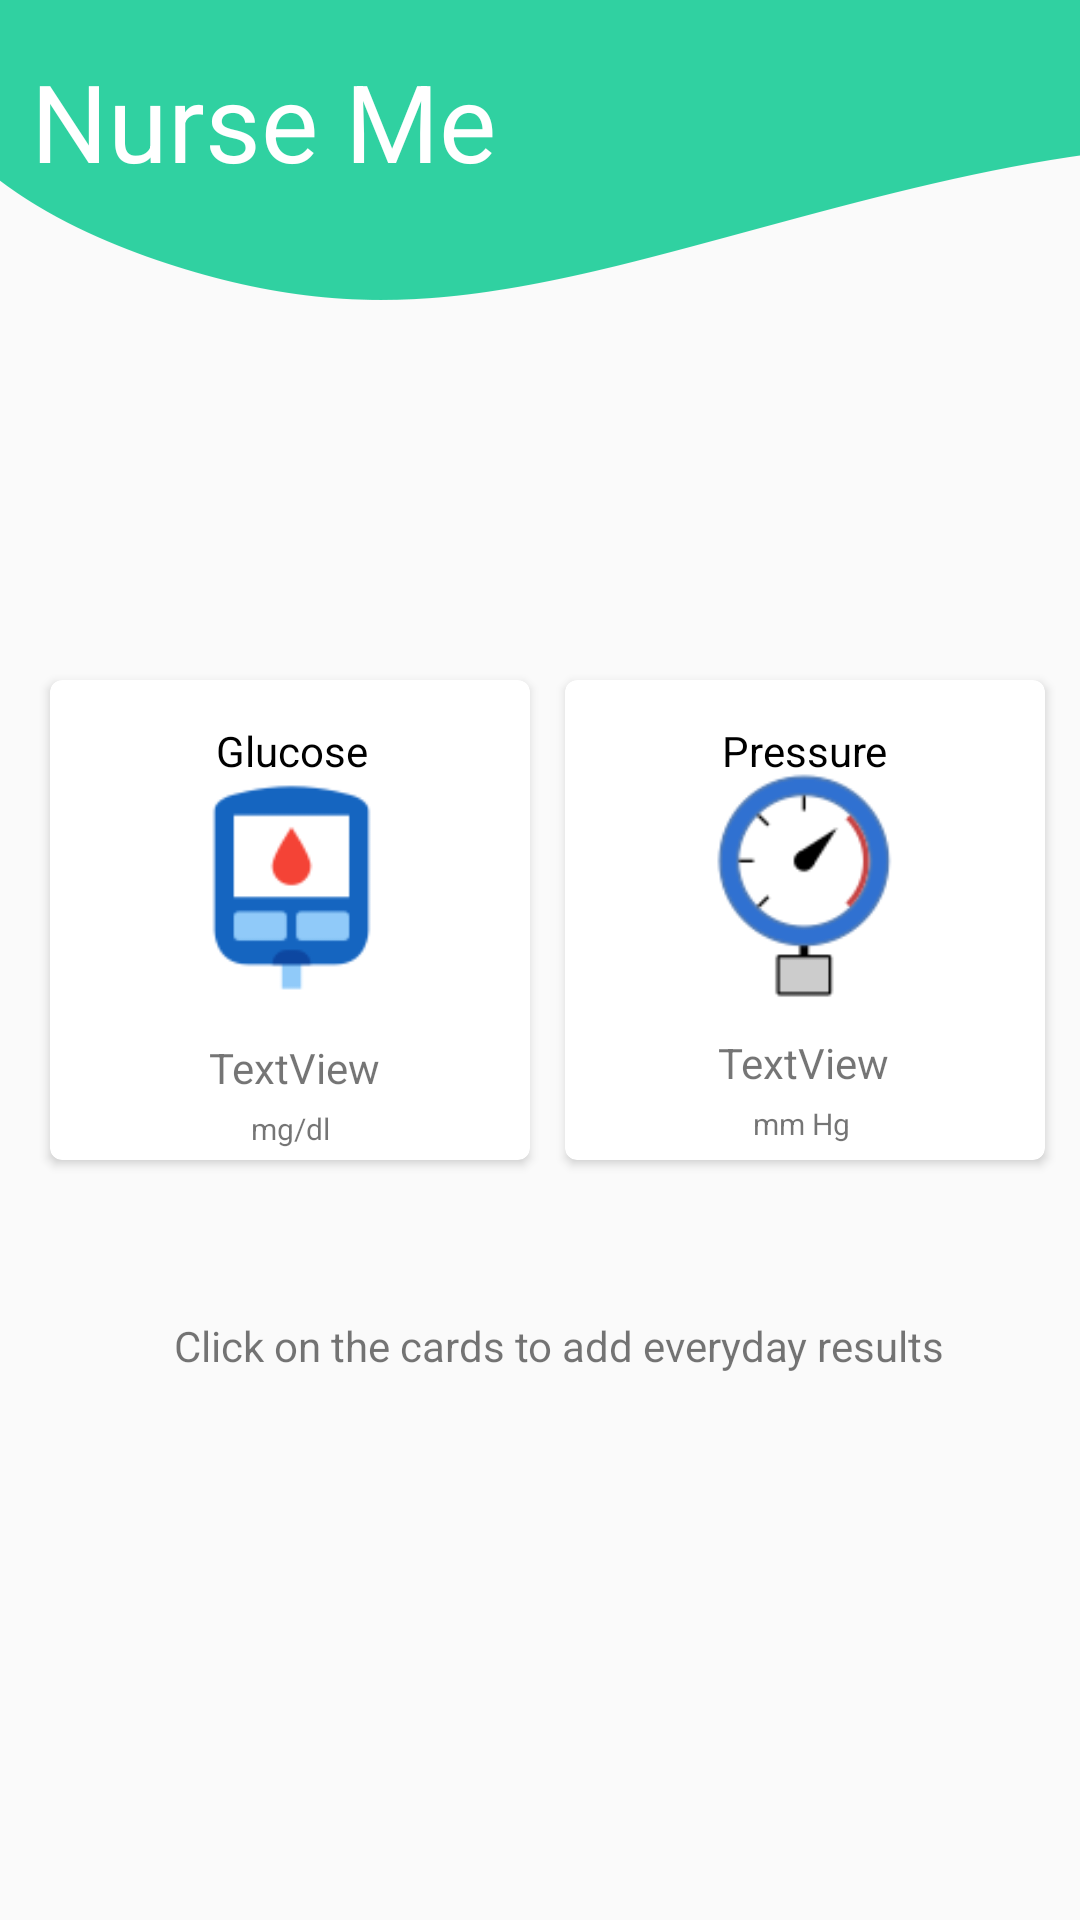

Icons on this 1080 x 1920 Android screen, each with the point to tap as (x=x, y=y):
glucometer: (x=291, y=887)
